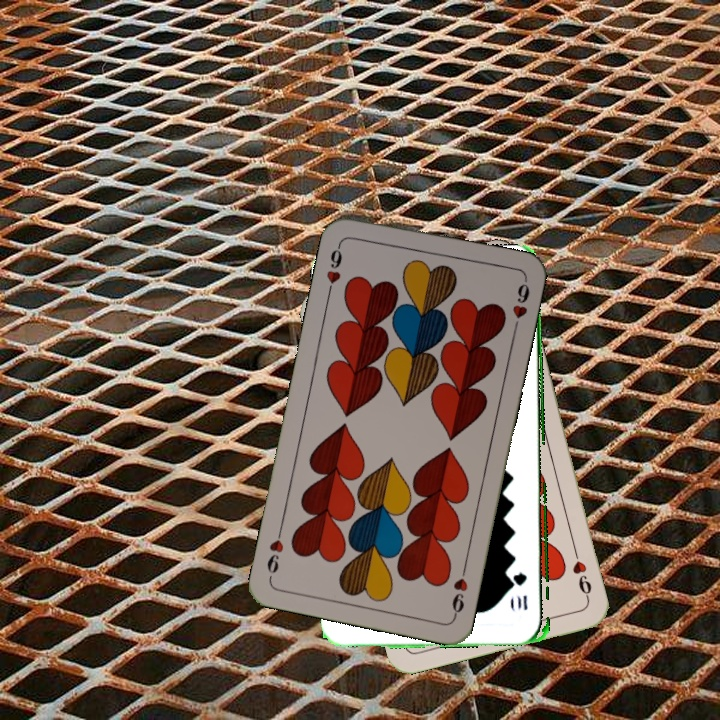G10: (512, 569, 530, 613)
H9: (568, 544, 594, 602), (322, 238, 345, 297), (448, 561, 470, 620)
